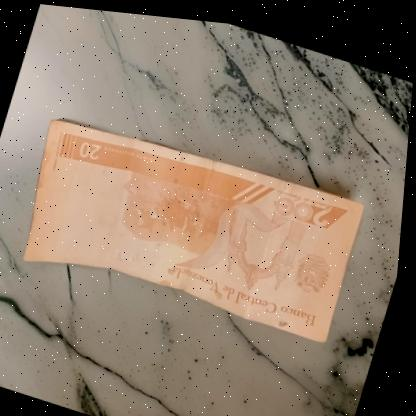vef_back: (69, 36, 317, 406)
